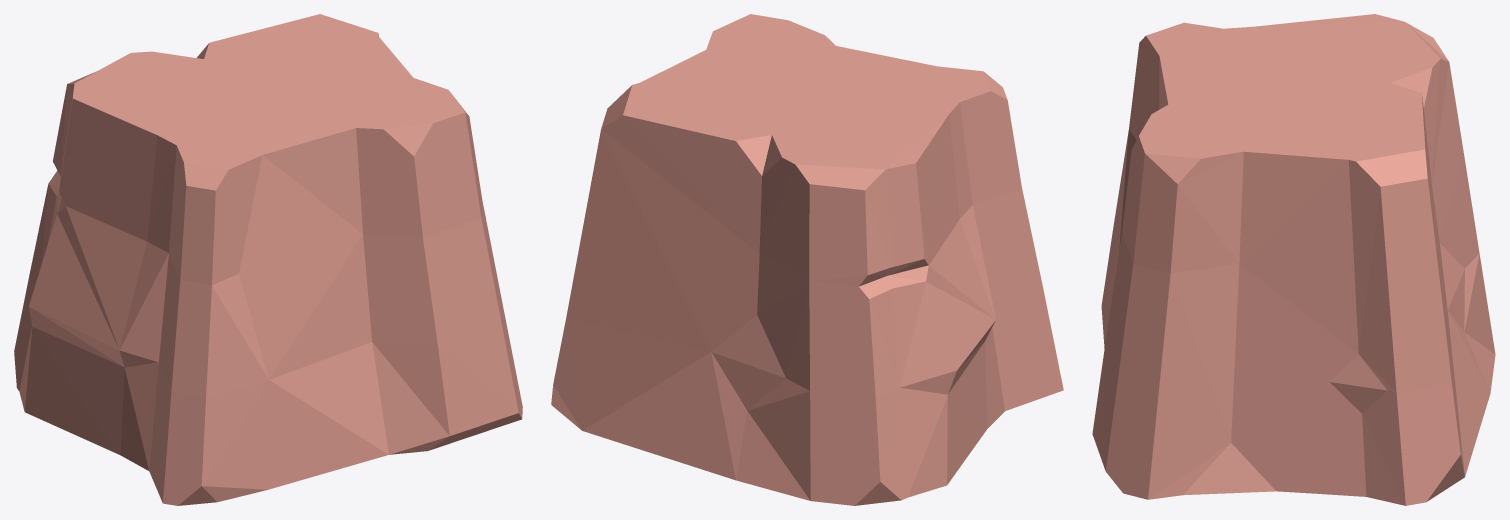
The model's file is Plane_037_Vlad.fbx.
3 views of the same model, side by side, from view 1: azimuth 30°, elevation 25°; view 2: azimuth 150°, elevation 25°; view 3: azimuth 270°, elevation 25° (orthographic). The views are drawn at different scales.
Parts seen in each view (by area): view 1: Plane.037; view 2: Plane.037; view 3: Plane.037.
Part boxes in pixels (x1,y1,x2,y2): Plane.037: (14,14,522,505); Plane.037: (551,14,1063,505); Plane.037: (1092,14,1495,505).
Bounding box in the file's own units: 995 × 749 × 863.
